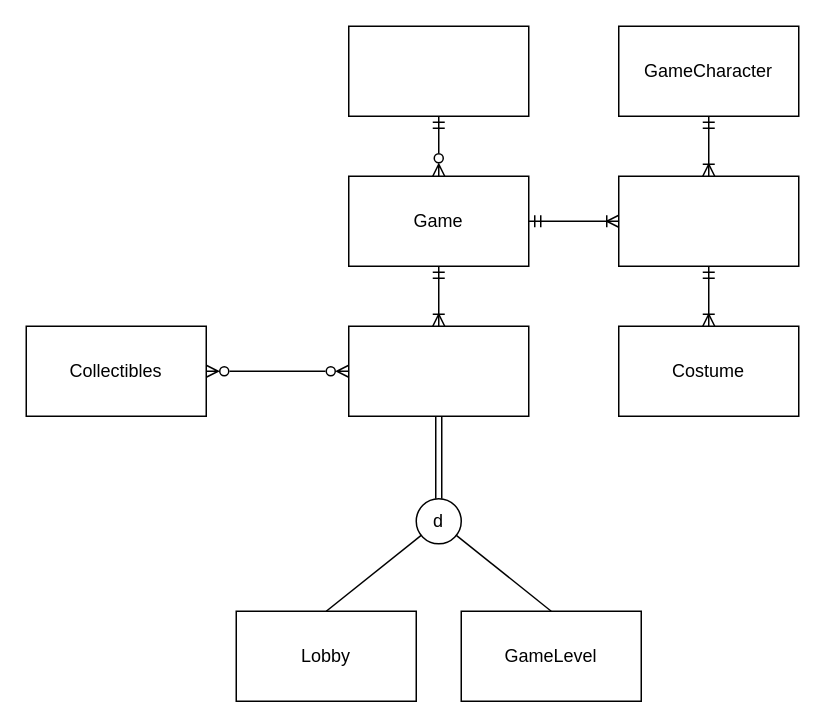
Some shapes in this 825 by 728 pixel diagram are drawn without their labels. The shapes that lost their labels are listed below. From the top down, each one's centre as x and y in pixels, then its label:
At (438,70): "Series".
At (708,220): "CharacterVariant".
At (438,370): "Level".
